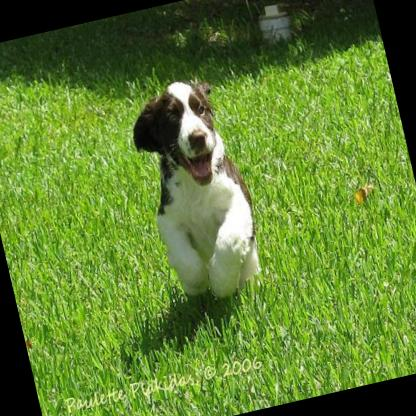English_springer: (118, 68, 272, 312)
